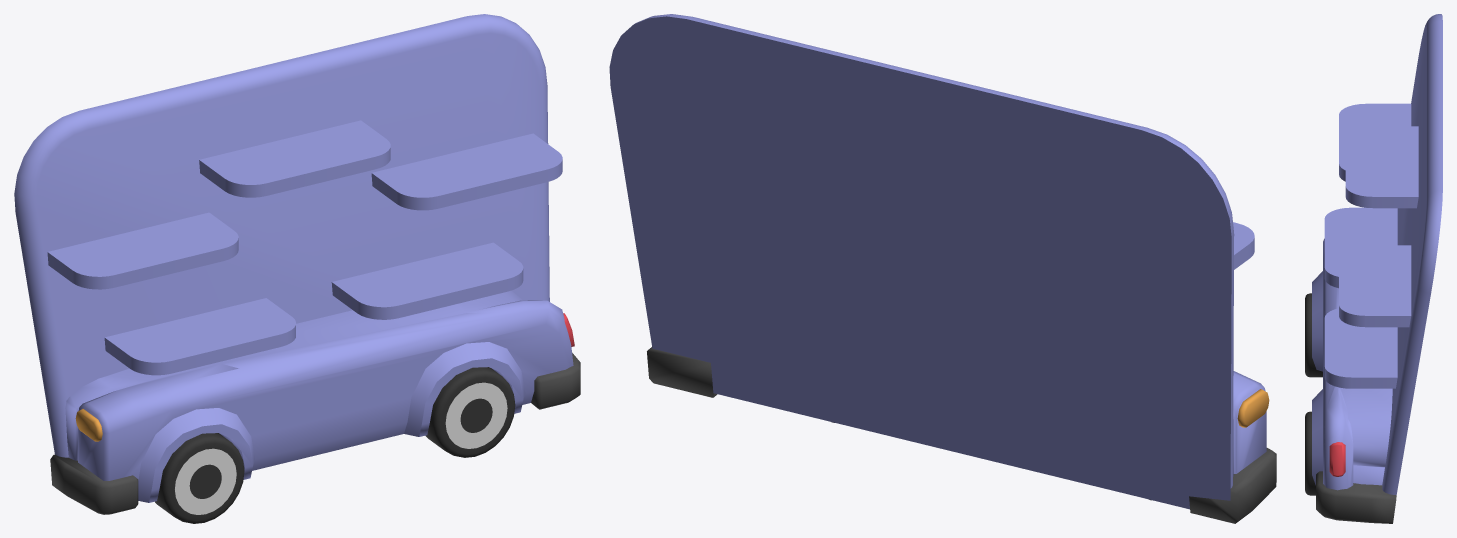
File: arabaTezgah.fbx
3 views of the same model, side by side, from view 1: azimuth 30°, elevation 25°; view 2: azimuth 150°, elevation 25°; view 3: azimuth 270°, elevation 25° (orthographic). The views are drawn at different scales.
Parts seen in each view (by area): view 1: tezgah, araba; view 2: tezgah, araba; view 3: tezgah, araba.
Boxes of the visible parts, bbox=[...] form: tezgah: bbox=[14, 14, 562, 457]; araba: bbox=[50, 290, 580, 523]; tezgah: bbox=[609, 14, 1254, 509]; araba: bbox=[647, 347, 1276, 523]; tezgah: bbox=[1324, 14, 1442, 495]; araba: bbox=[1305, 238, 1396, 523].
Bounding box in the file's own units: 916 × 610 × 231.
